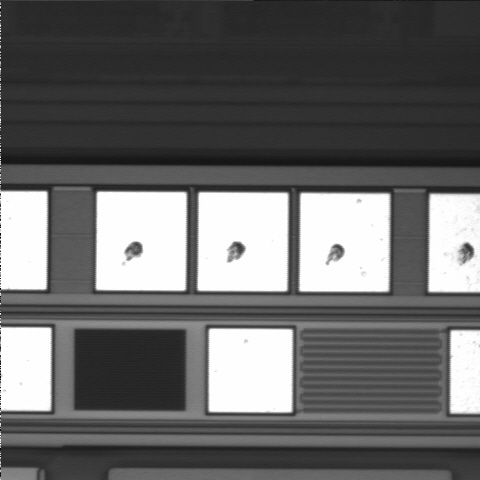pad: (96, 192, 186, 291), (198, 192, 288, 291), (300, 193, 390, 292), (209, 329, 292, 412)
